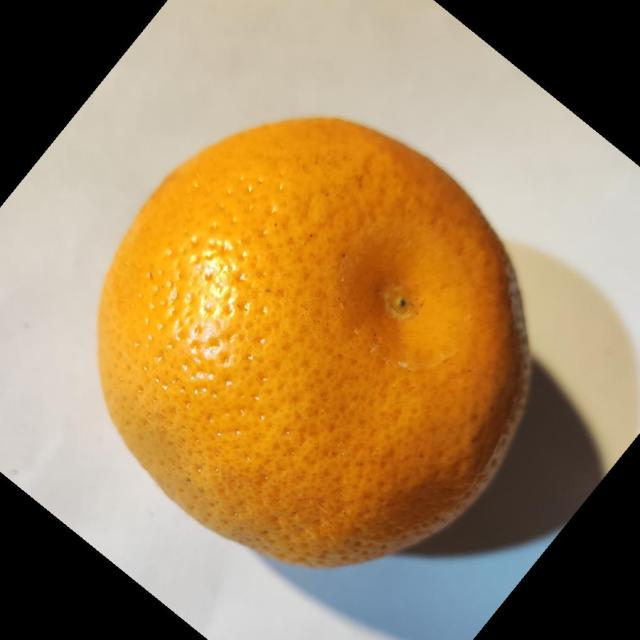fresh orange: (95, 115, 532, 568)
